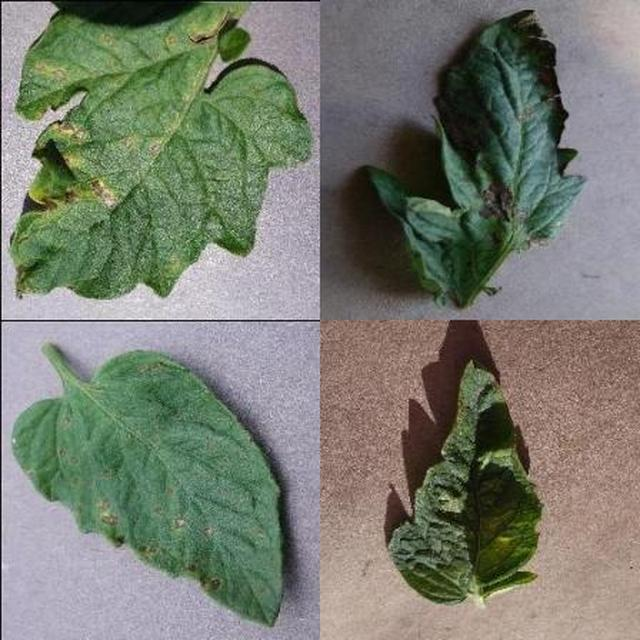Septoria Leaf: (208, 217, 640, 640)
